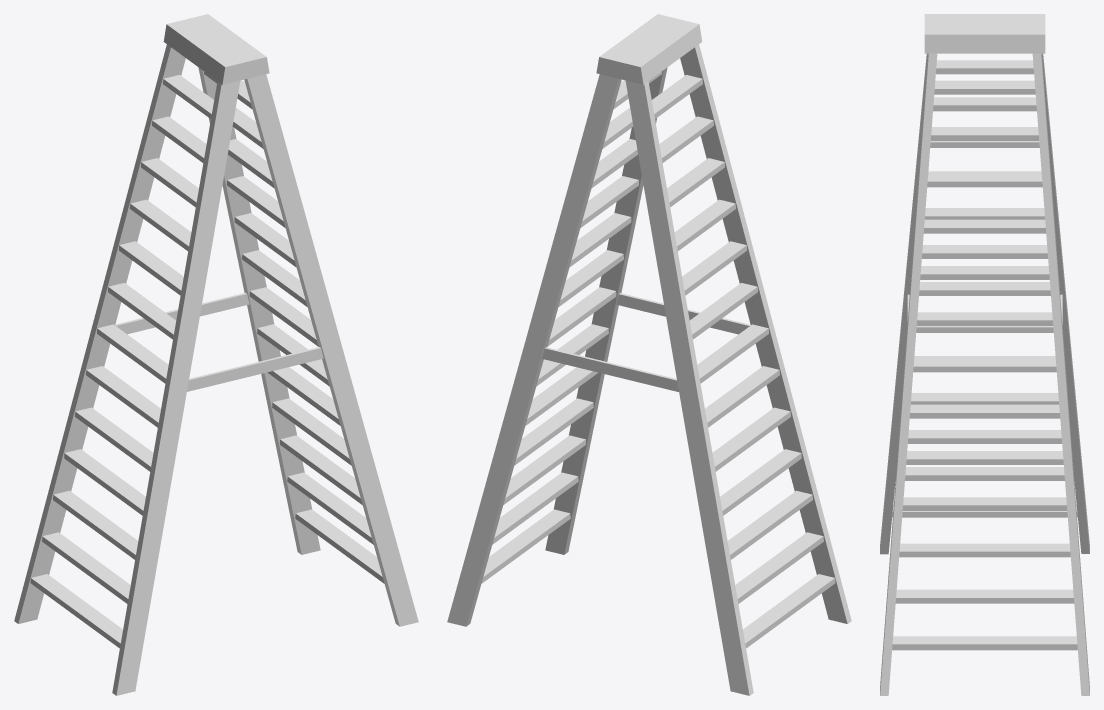
File: Ladder.fbx
The picture shows the model from 3 angles, left to right: view 1: azimuth 30°, elevation 25°; view 2: azimuth 150°, elevation 25°; view 3: azimuth 270°, elevation 25°; orthographic projection. The views are drawn at different scales.
Parts seen in each view (by area): view 1: Ladder; view 2: Ladder; view 3: Ladder.
Part boxes in pixels (<box>): Ladder: <box>14,14,418,695</box>; Ladder: <box>447,14,851,695</box>; Ladder: <box>880,14,1089,695</box>.
Size of the model in its own units: 1.22 by 2.25 by 0.717.
